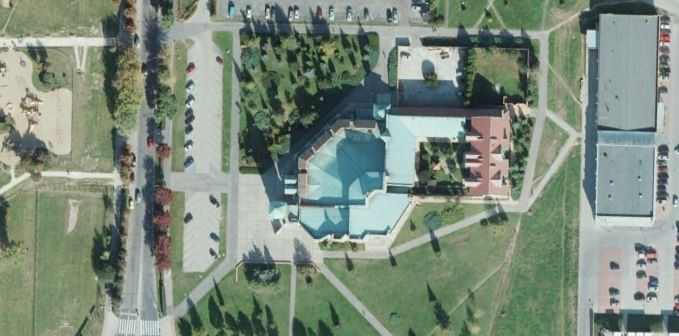block of flats: (583, 11, 662, 223), (461, 113, 516, 201)
church: (266, 96, 424, 245)
